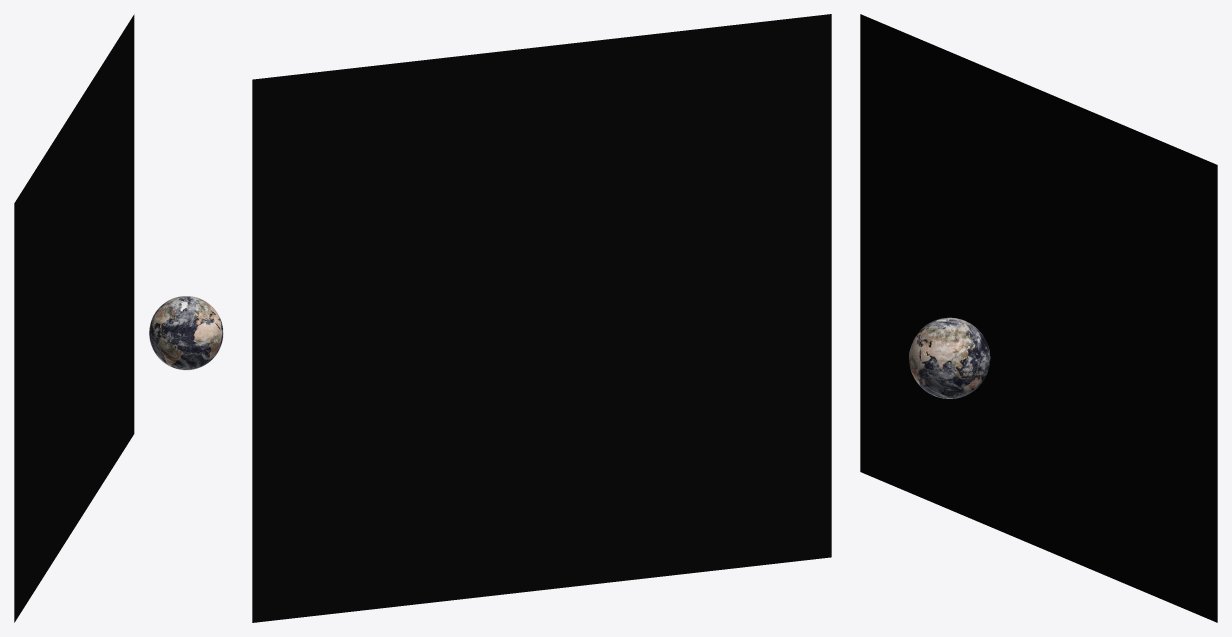
Rendered from Earth.glb.
3 renders of one model, left to right at view 1: azimuth 30°, elevation 25°; view 2: azimuth 150°, elevation 25°; view 3: azimuth 270°, elevation 25°, orthographic. The views are drawn at different scales.
Parts seen in each view (by area): view 1: Plane, Earth, Sky; view 2: Plane; view 3: Plane, Earth, Sky.
Part boxes in pixels (bbox=[...]): Plane: bbox=[14, 14, 134, 622]; Earth: bbox=[149, 296, 222, 369]; Sky: bbox=[149, 296, 223, 370]; Plane: bbox=[252, 14, 831, 622]; Plane: bbox=[860, 14, 1217, 622]; Earth: bbox=[909, 318, 989, 398]; Sky: bbox=[909, 317, 990, 398].
Bounding box in the file's own units: 14.14 × 20 × 14.14.
3 materials, 2 textured.
